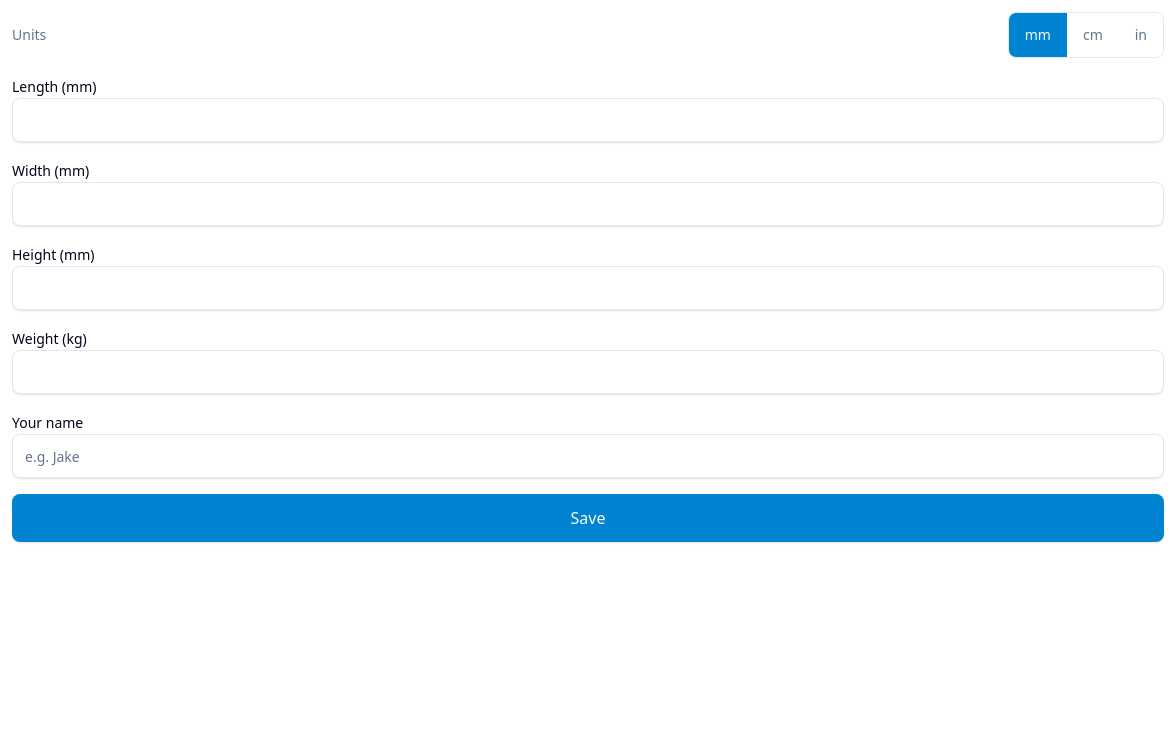
Scenario: DimForm › blocks save and shows an error when fields are empty
Click the button "Save".
click(588, 518)  # box x1=12 y1=494 x2=1164 y2=542
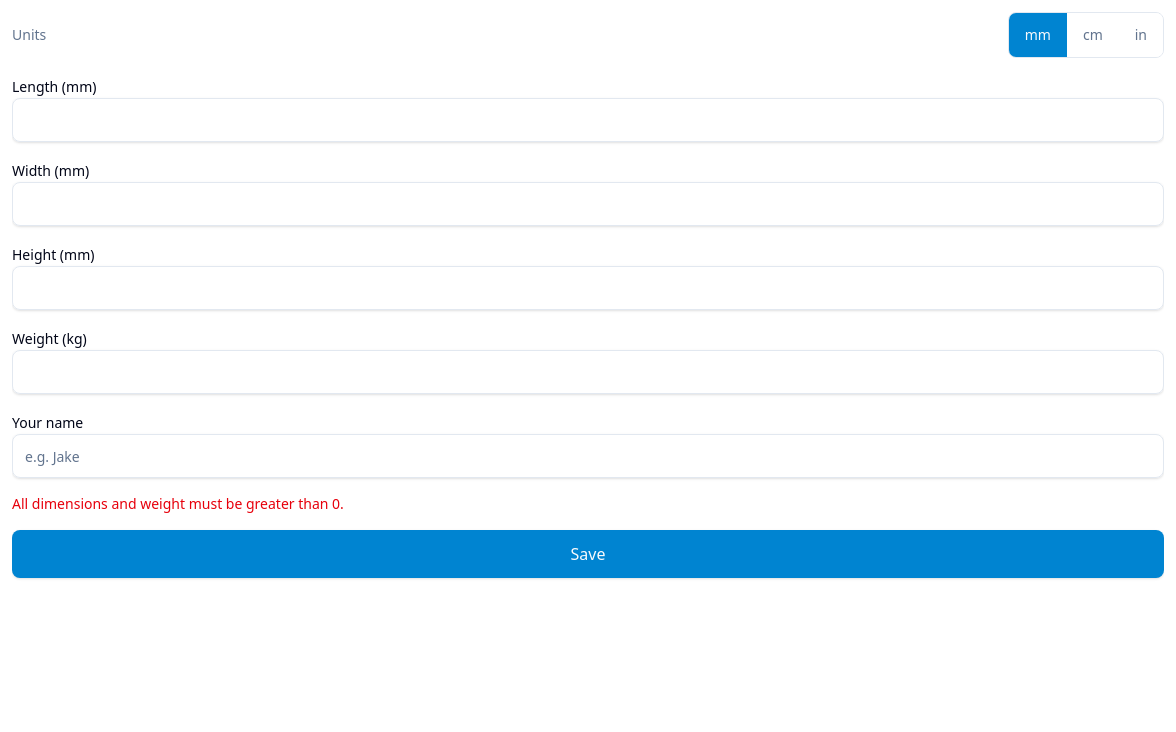
Result: the message "All dimensions and weight must be greater than 0." is shown at x1=12 y1=494 x2=344 y2=513
